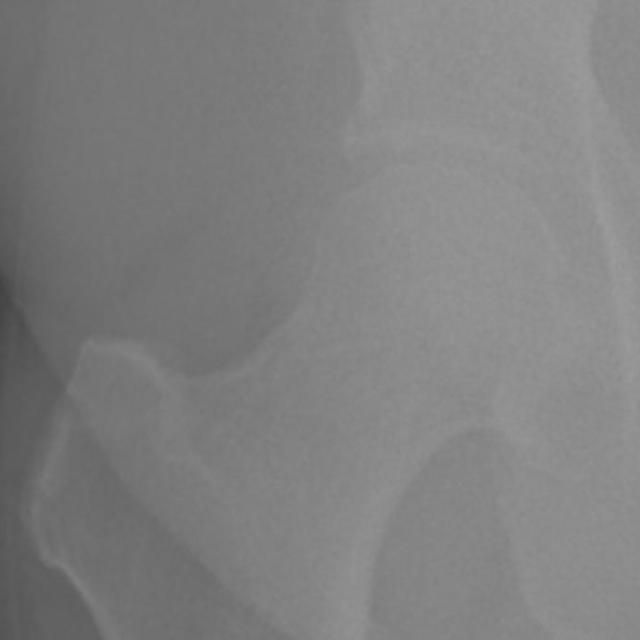Fitted_femural_head: (283, 167, 432, 283)
